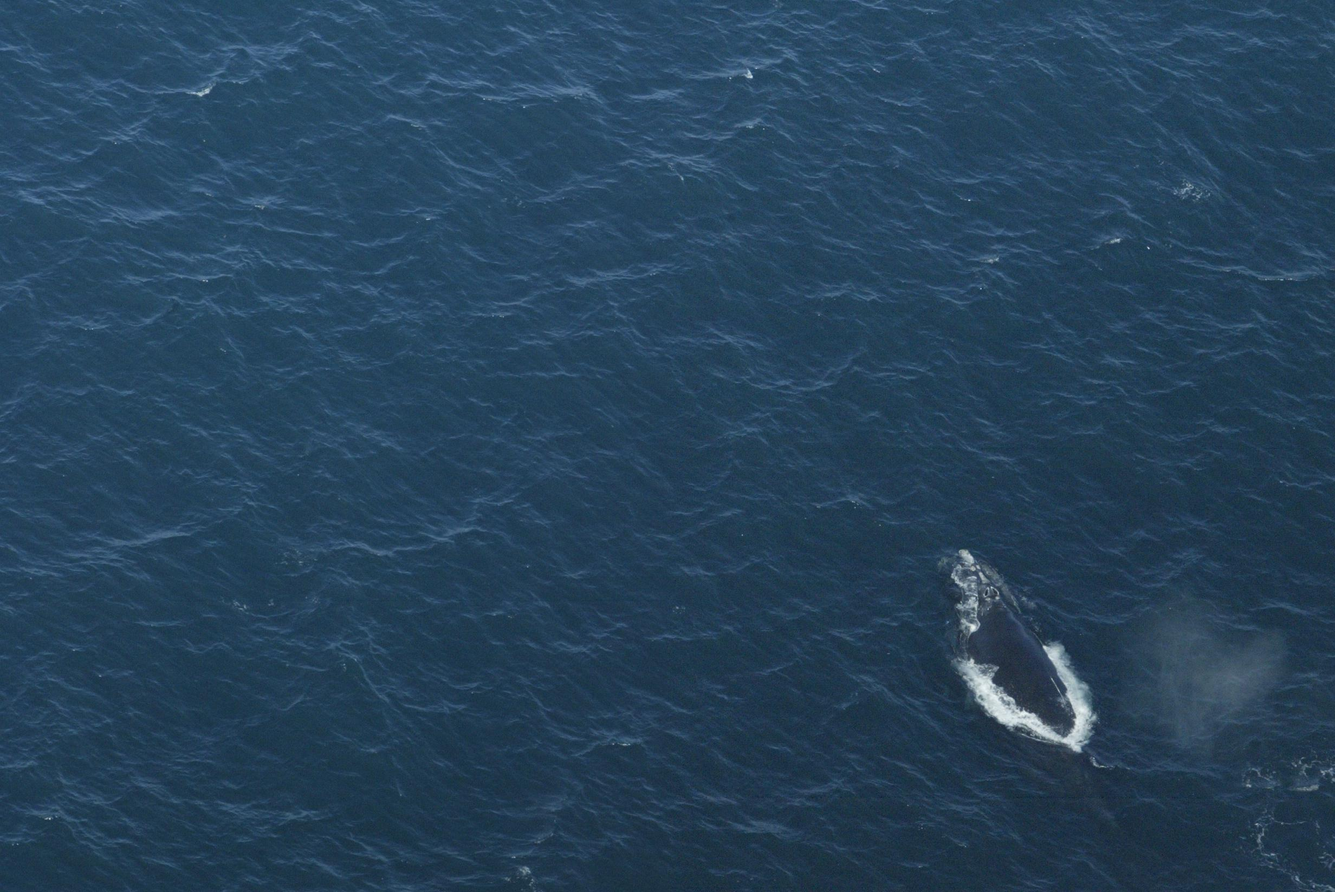whale: (929, 540, 1147, 832)
